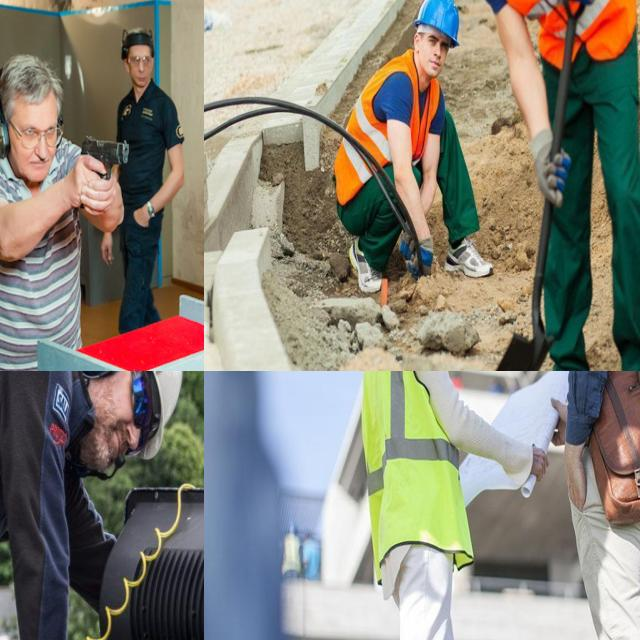Ear-protection: (57, 371, 181, 490), (0, 48, 64, 182)
face_nomask: (424, 29, 451, 77)
hand_glove: (526, 122, 575, 212), (405, 232, 441, 286)
hand_noglove: (559, 435, 590, 521), (524, 442, 554, 494)
head_helmet: (417, 0, 465, 39)
person: (441, 0, 640, 371), (340, 0, 479, 283), (360, 371, 467, 640), (565, 371, 640, 640)
shoes: (438, 234, 497, 283), (346, 234, 384, 297), (536, 360, 587, 371)
vest: (364, 371, 465, 567), (335, 65, 439, 191), (496, 0, 640, 60)
